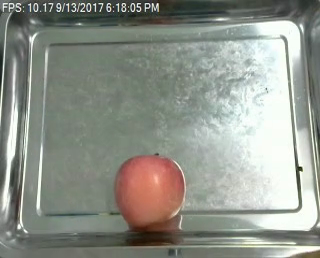Apple: (113, 152, 189, 228)
